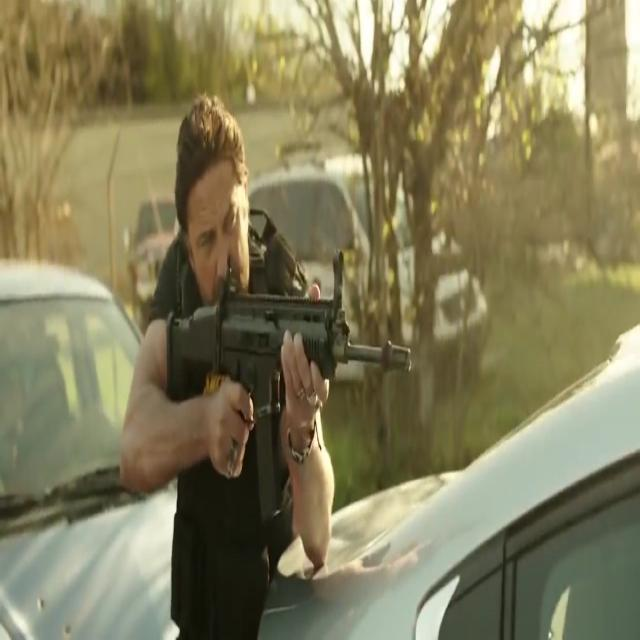Weapon: (166, 276, 424, 494)
